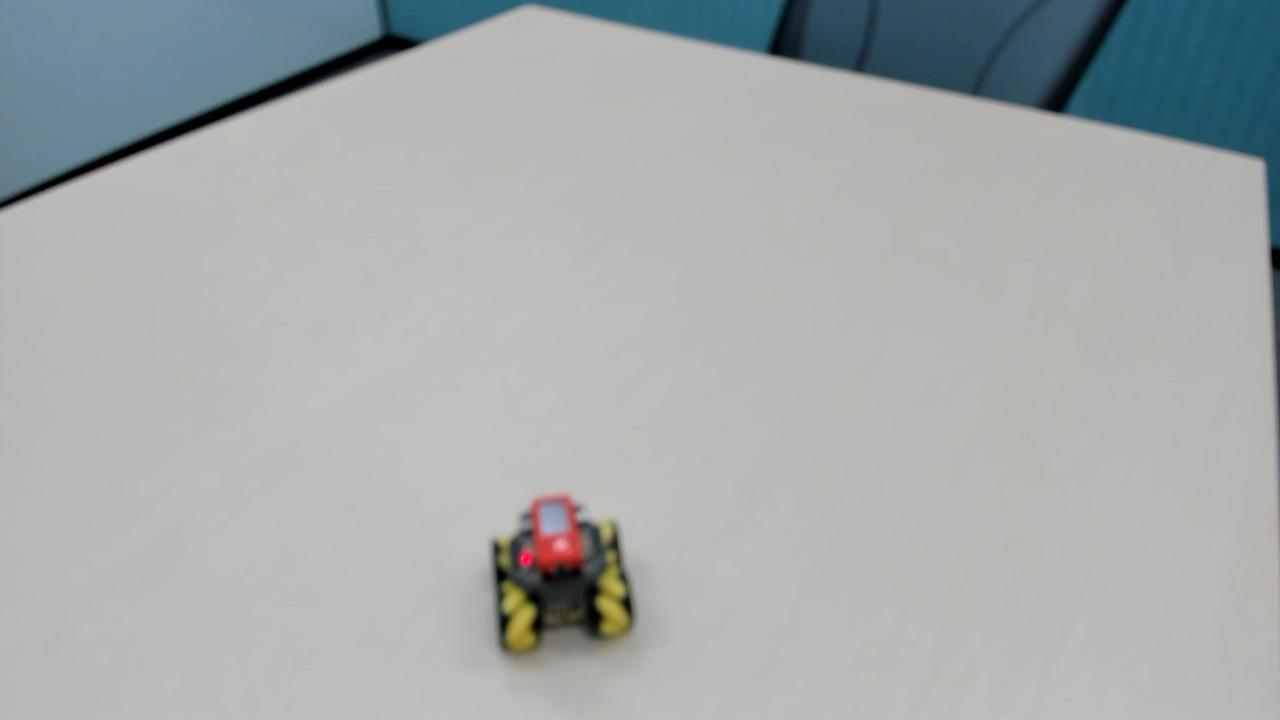R-Robot: (480, 482, 654, 680)
